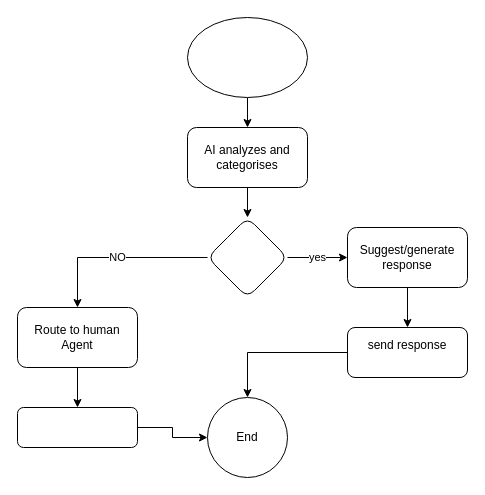
Some shapes in this 485 by 495 pixel diagram are drawn without their labels. Here are the shapes that lost their labels. From the top down, the centre of each, then its label:
At (247,57): "INCOMING EMAIL TICKET".
At (247,257): "common query?".
At (77,427): "Human Handels issue".
